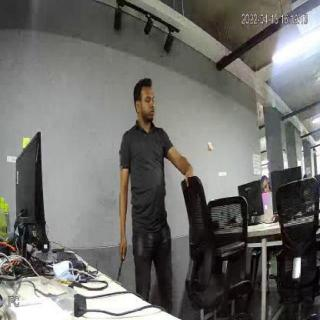knife: (116, 253, 126, 281)
